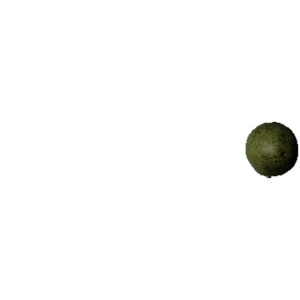abacate: (245, 120, 299, 176)
